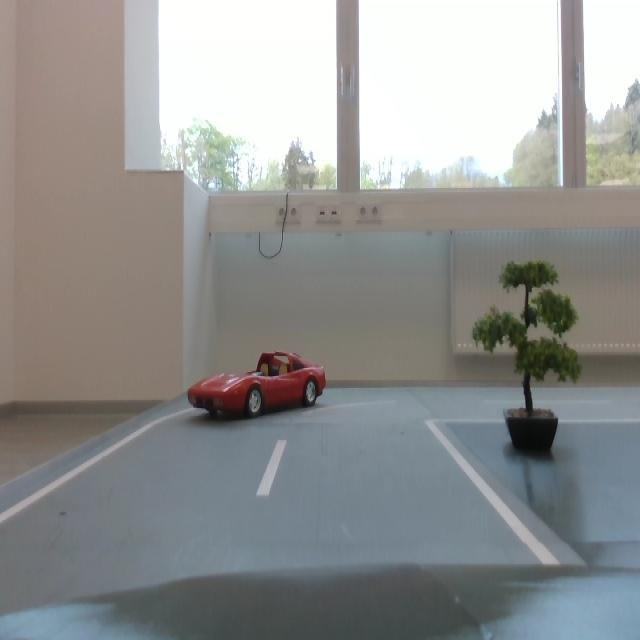car: (186, 344, 342, 427)
potted plant: (473, 256, 584, 416)
